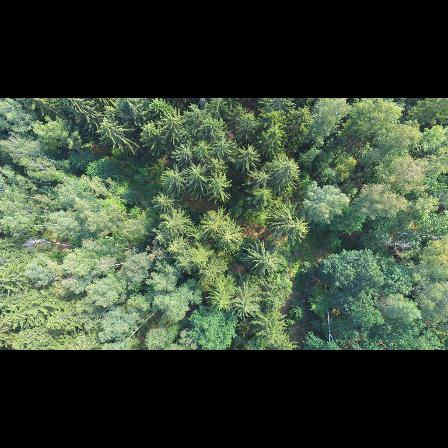Dead: (22, 235, 80, 252), (373, 237, 413, 250)
